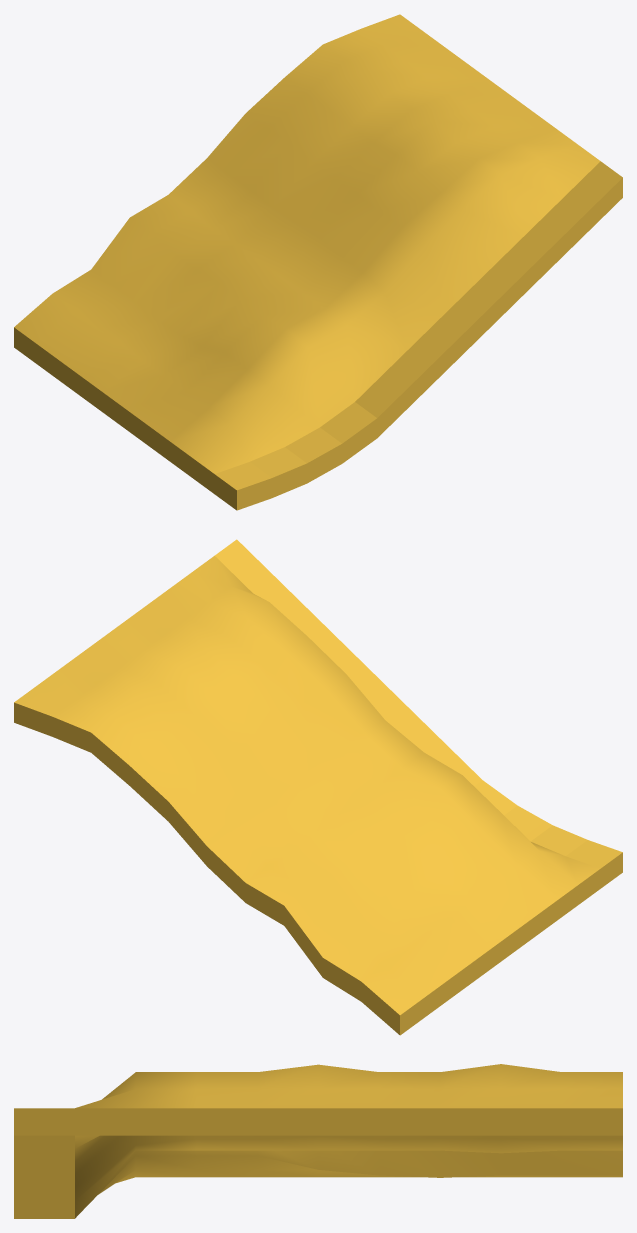
The model's file is Steil - Unten - Hügle b - x.fbx.
3 views of the same model, one above another, from view 1: azimuth 30°, elevation 25°; view 2: azimuth 150°, elevation 25°; view 3: azimuth 270°, elevation 25° (orthographic). The views are drawn at different scales.
Visible parts, largest first — view 1: Steil - Unten - Hügle b - x; view 2: Steil - Unten - Hügle b - x; view 3: Steil - Unten - Hügle b - x.
Boxes of the visible parts, bbox=[...] form: Steil - Unten - Hügle b - x: bbox=[14, 14, 622, 510]; Steil - Unten - Hügle b - x: bbox=[14, 539, 622, 1035]; Steil - Unten - Hügle b - x: bbox=[14, 1064, 622, 1218].
Size of the model in its own units: 394 by 233 by 394.
